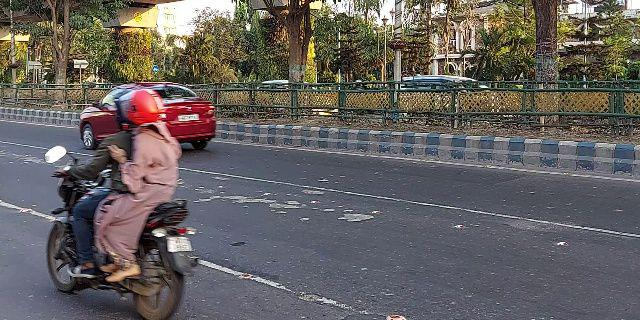Car: (75, 83, 220, 159)
Motorbike: (46, 89, 211, 318)
